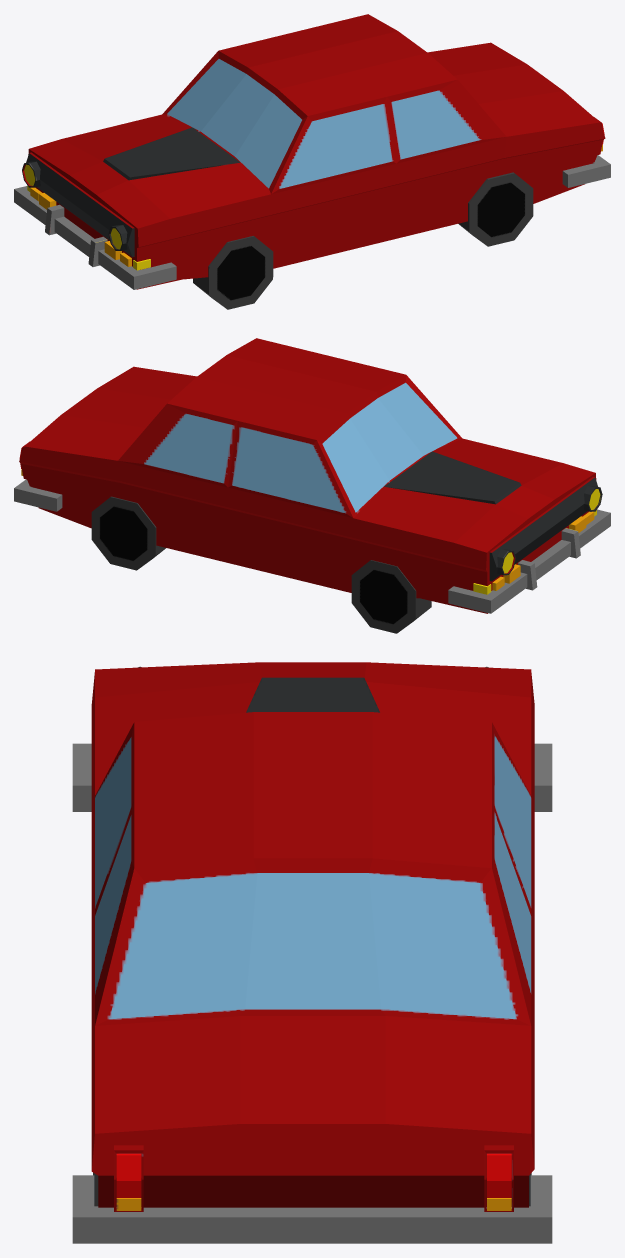
Rendered from Volga.fbx.
3 views of the same model, one above another, from view 1: azimuth 30°, elevation 25°; view 2: azimuth 150°, elevation 25°; view 3: azimuth 270°, elevation 25° (orthographic). The views are drawn at different scales.
Parts seen in each view (by area): view 1: Cube.010, Volga (F-L), Volga (B-L); view 2: Cube.010, Volga (F-R), Volga (B-R); view 3: Cube.010.
Part boxes in pixels (bbox=[...]): Cube.010: bbox=[14, 14, 610, 289]; Volga (F-L): bbox=[193, 236, 273, 309]; Volga (B-L): bbox=[458, 172, 533, 246]; Cube.010: bbox=[14, 338, 610, 613]; Volga (F-R): bbox=[351, 560, 431, 633]; Volga (B-R): bbox=[91, 496, 165, 570]; Cube.010: bbox=[72, 662, 552, 1243].
Bounding box in the file's own units: 327 × 109 × 139.
Materials: 5 (5 with a texture image).
